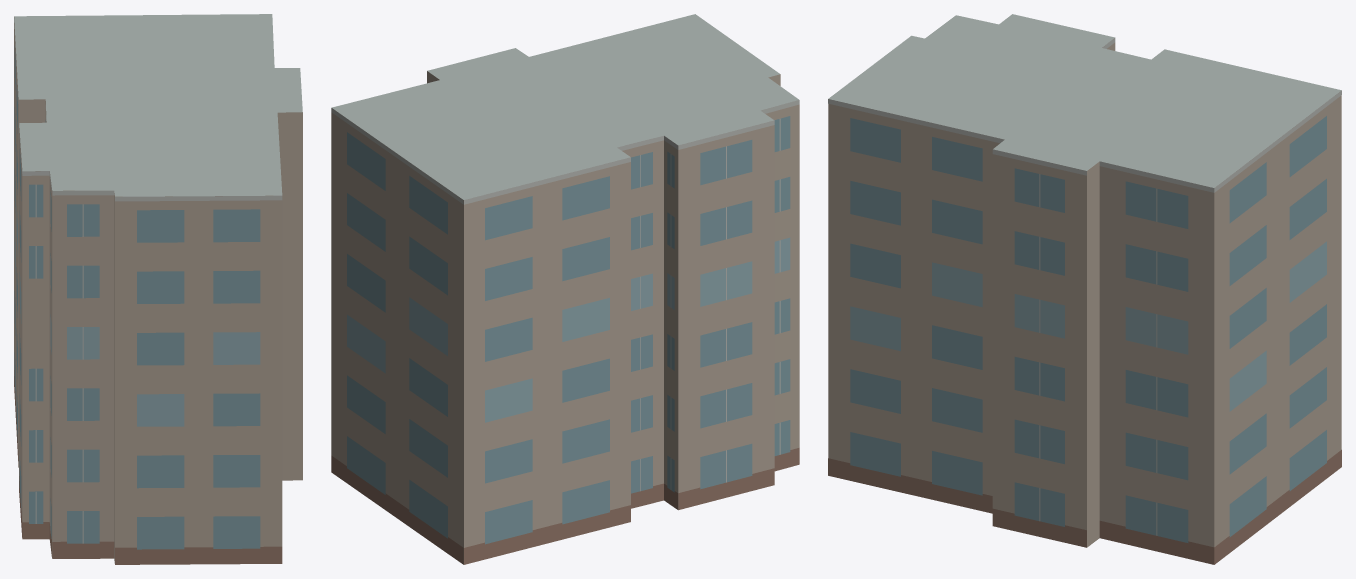
File: survey-upis-32712474.glb
The picture shows the model from 3 angles, left to right: view 1: azimuth 30°, elevation 25°; view 2: azimuth 150°, elevation 25°; view 3: azimuth 270°, elevation 25°; orthographic projection. The views are drawn at different scales.
Visible parts, largest first — view 1: survey-upis-32712474.tmp; view 2: survey-upis-32712474.tmp; view 3: survey-upis-32712474.tmp.
Boxes of the visible parts, left/top/right/bottom form: survey-upis-32712474.tmp: left=14, top=14, right=302, bottom=564; survey-upis-32712474.tmp: left=331, top=14, right=799, bottom=564; survey-upis-32712474.tmp: left=828, top=14, right=1341, bottom=564.
Size of the model in its own units: 19.14 by 19.3 by 23.86.
